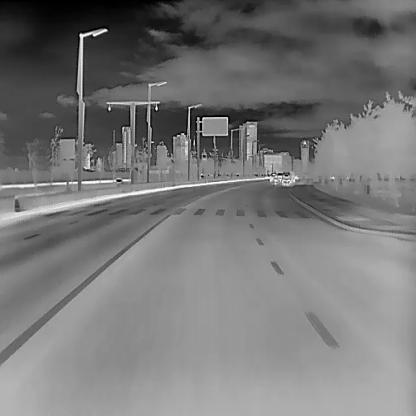car: (280, 170, 290, 184), (268, 172, 277, 183), (276, 170, 281, 180)
